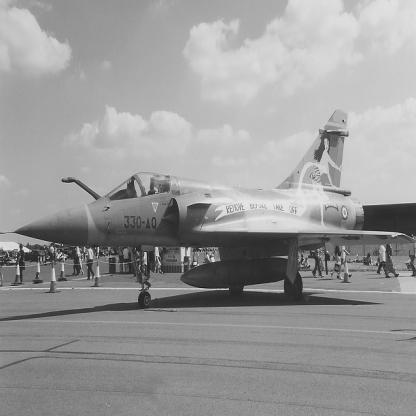Mirage2000: (2, 109, 416, 310)
